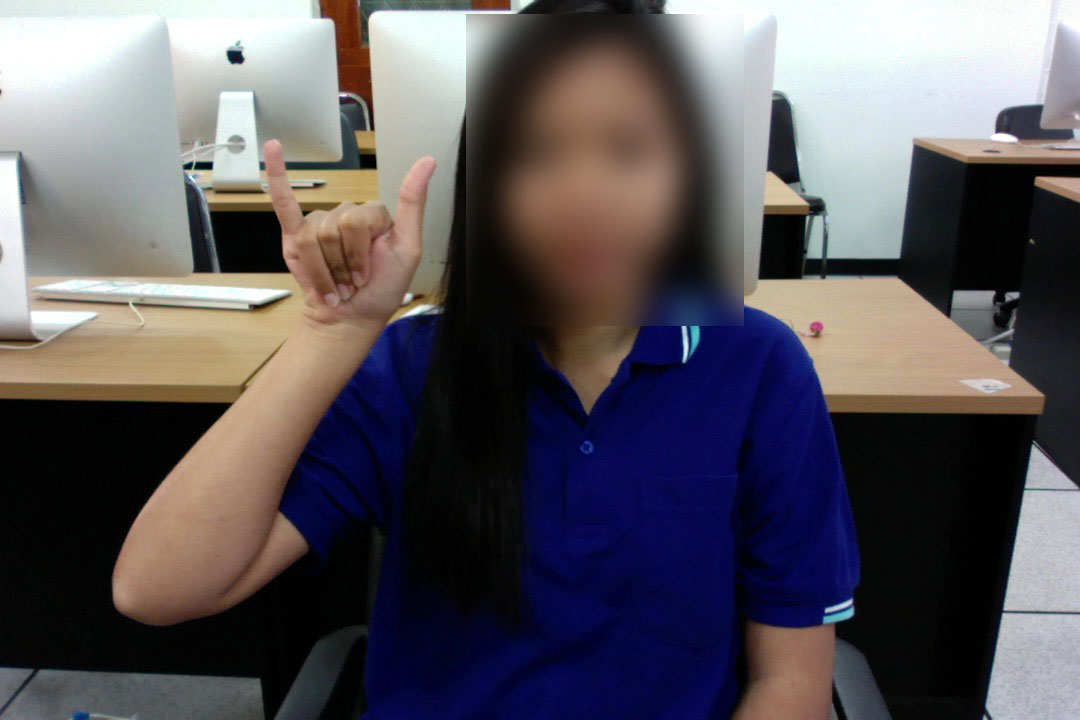yor: (254, 129, 442, 347)
